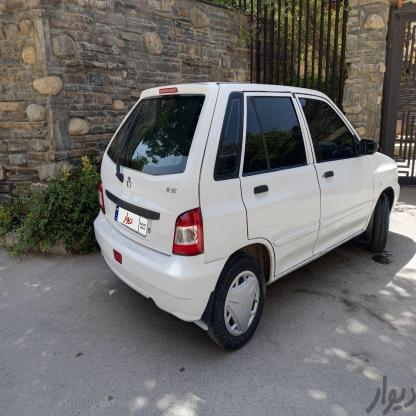Car: (94, 79, 406, 367)
